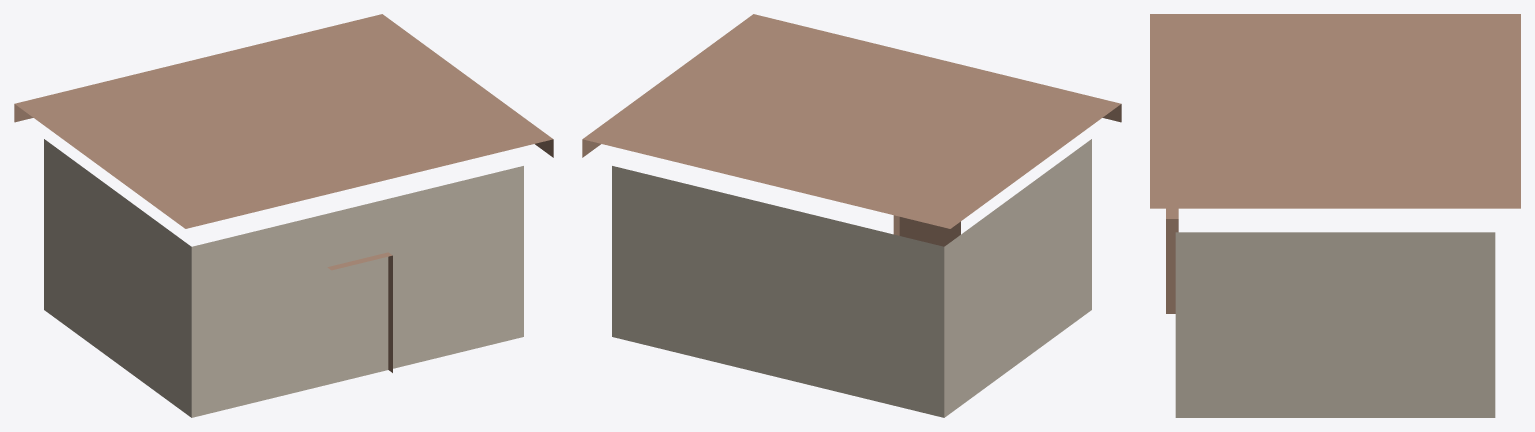
The model's file is house_rural.glb.
3 renders of one model, left to right at view 1: azimuth 30°, elevation 25°; view 2: azimuth 150°, elevation 25°; view 3: azimuth 270°, elevation 25°, orthographic. The views are drawn at different scales.
Parts seen in each view (by area): view 1: Walls, Roof; view 2: Walls, Roof; view 3: Roof, Walls.
Part boxes in pixels (left/top/right/bottom): Walls: left=44, top=139, right=523, bottom=417; Roof: left=14, top=14, right=553, bottom=372; Walls: left=612, top=139, right=1091, bottom=417; Roof: left=582, top=14, right=1121, bottom=246; Roof: left=1150, top=14, right=1520, bottom=313; Walls: left=1175, top=232, right=1495, bottom=417.
Size of the model in its own units: 7.2 by 3.78 by 5.8.
